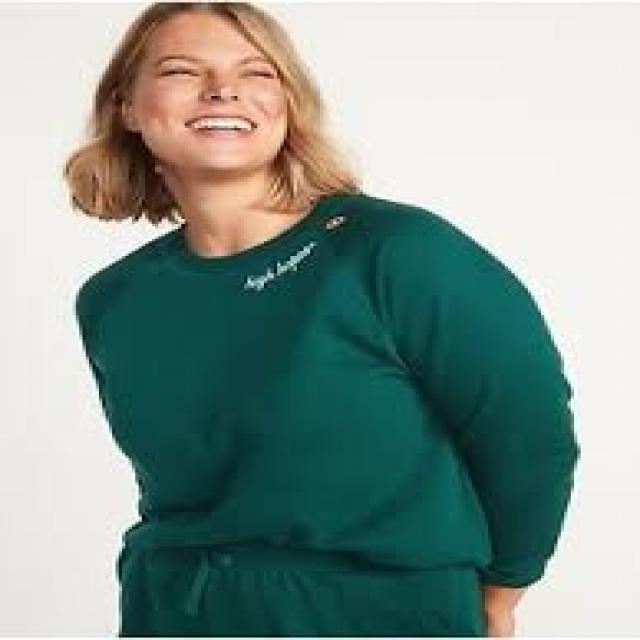plain: (56, 185, 592, 576)
